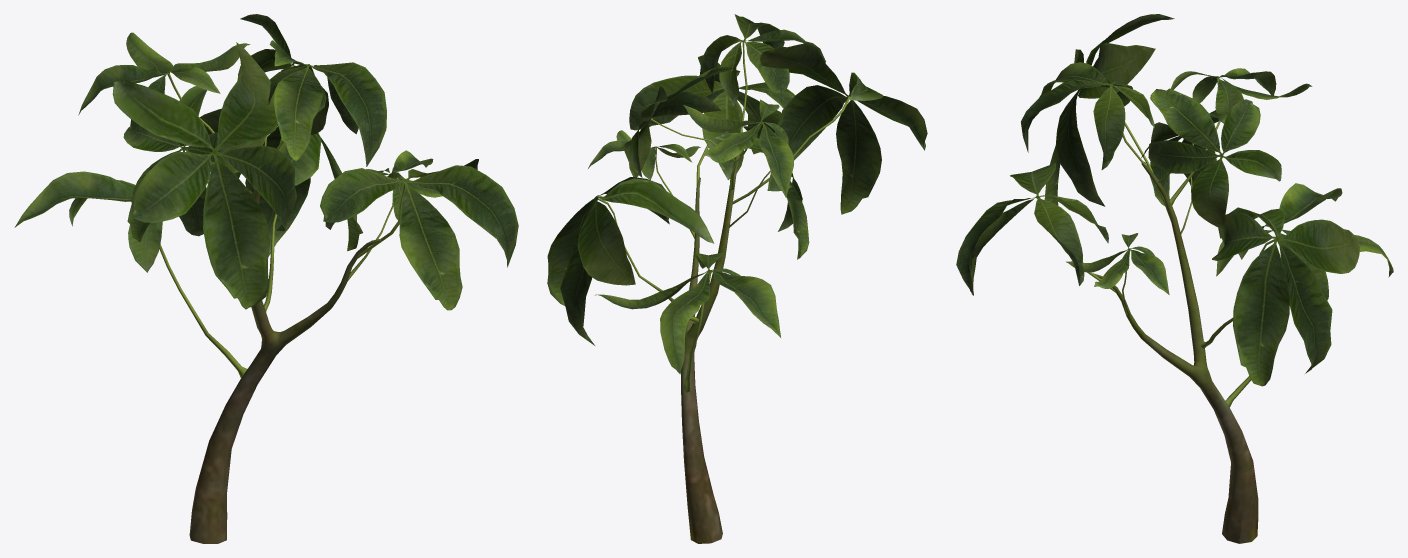
File: pachira_aquatica_01_b.gltf.lod.glb
3 renders of one model, left to right at view 1: azimuth 30°, elevation 25°; view 2: azimuth 150°, elevation 25°; view 3: azimuth 270°, elevation 25°, orthographic. The views are drawn at different scales.
Visible parts, largest first — view 1: pachira_aquatica_01_leaves_b, pachira_aquatica_01_bark_b; view 2: pachira_aquatica_01_leaves_b, pachira_aquatica_01_bark_b; view 3: pachira_aquatica_01_leaves_b, pachira_aquatica_01_bark_b.
Boxes of the visible parts, x1,y1,x2,y2 form: pachira_aquatica_01_leaves_b: (14, 14, 518, 377); pachira_aquatica_01_bark_b: (189, 189, 380, 543); pachira_aquatica_01_leaves_b: (547, 14, 927, 392); pachira_aquatica_01_bark_b: (681, 154, 740, 543); pachira_aquatica_01_leaves_b: (956, 14, 1393, 407); pachira_aquatica_01_bark_b: (1093, 161, 1258, 543).
Size of the model in its own units: 0.5031 by 0.735 by 0.6074.
2 materials, 2 textured.
